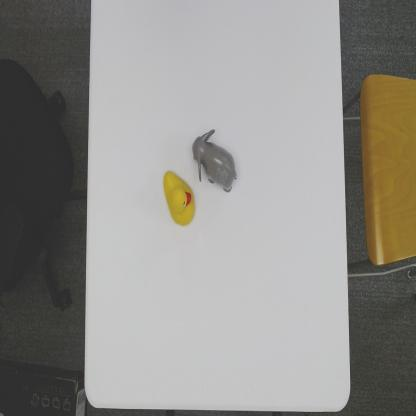Duck: (162, 169, 197, 229)
Elephant: (192, 128, 238, 194)
